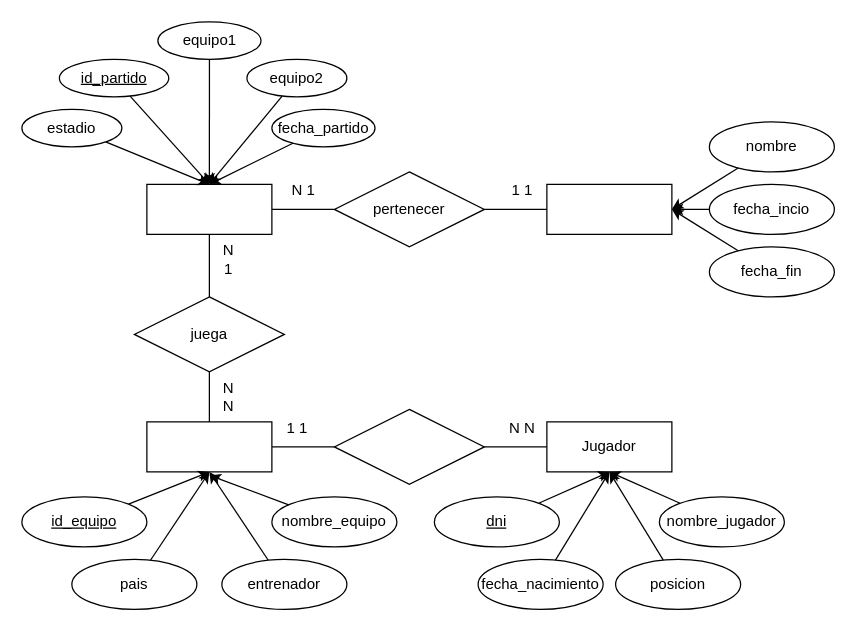
The diagram is 856 pixels wide and 631 high, and some of its shapes have lost their labels. The shapes that lost their labels are listed below. From the top down, each one's centre as x and y in pixels, then its label:
At point 209,208: "Partidos".
At point 609,208: "Liga".
At point 209,446: "Equipo".
At point 408,446: "tiene".
